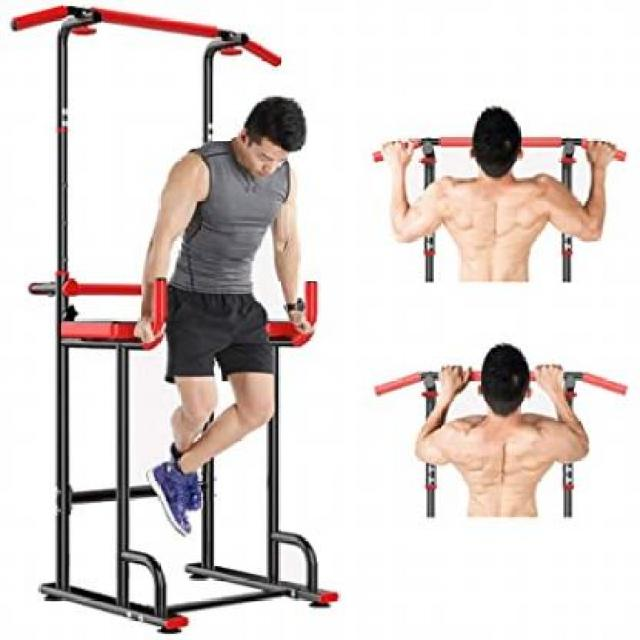chinning dipping: (12, 4, 340, 634)
